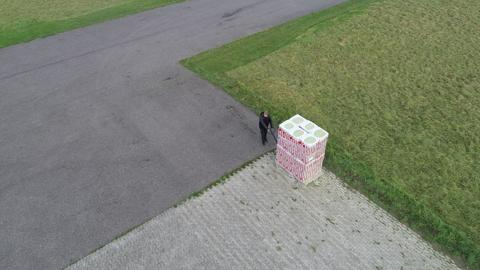RockwoolPallet: (276, 114, 330, 186)
